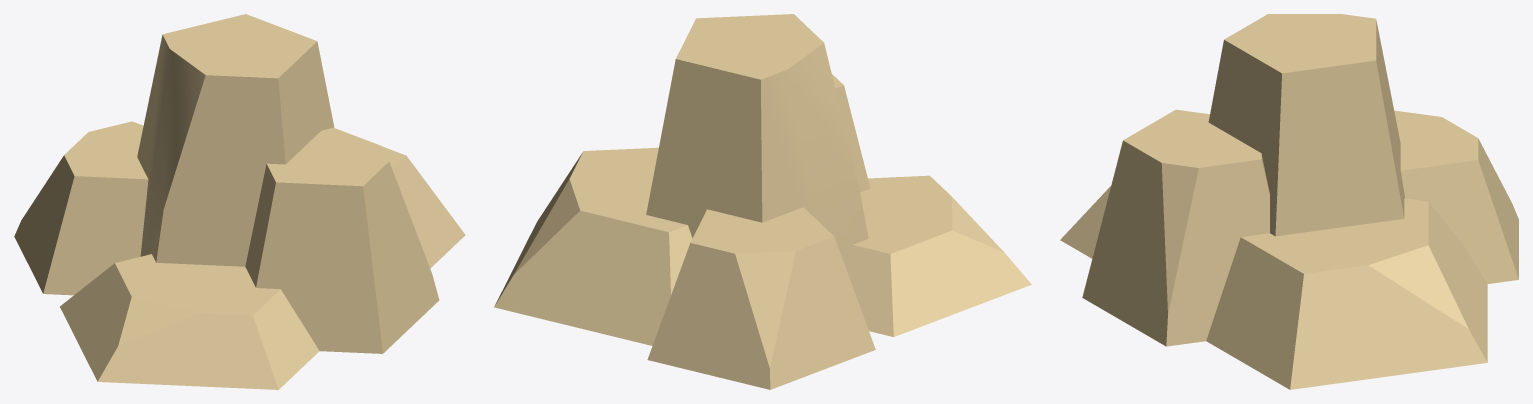
The model's file is rock.glb.
3 renders of one model, left to right at view 1: azimuth 30°, elevation 25°; view 2: azimuth 150°, elevation 25°; view 3: azimuth 270°, elevation 25°, orthographic. The views are drawn at different scales.
Parts seen in each view (by area): view 1: rockB; view 2: rockB; view 3: rockB.
Part boxes in pixels (box(x1,y1,x2,y2)): rockB: box(14, 14, 465, 389); rockB: box(494, 14, 1031, 389); rockB: box(1060, 14, 1518, 389).
Bounding box in the file's own units: 0.7991 × 0.4186 × 0.7247.
